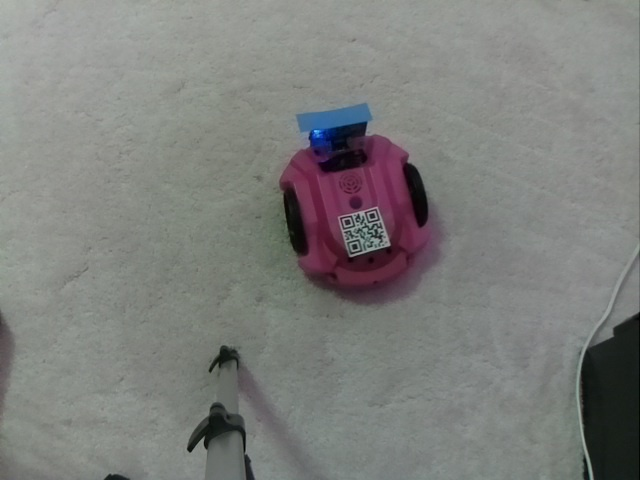chassis: (275, 103, 437, 299)
qr: (334, 207, 393, 262)
